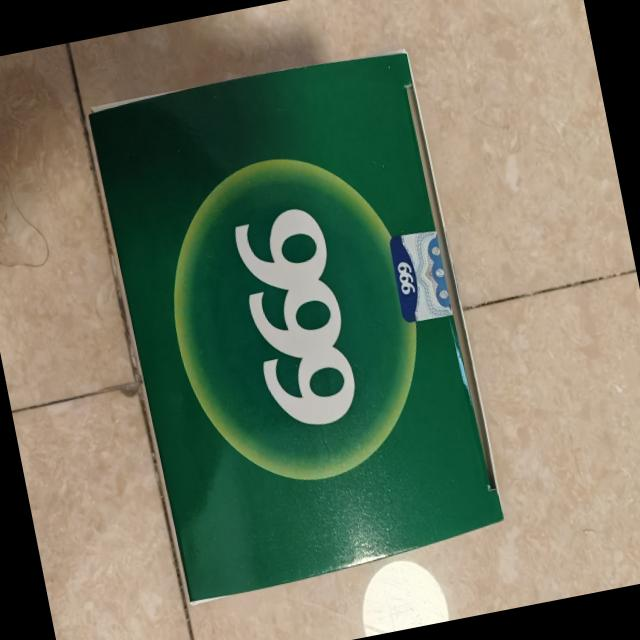box: (74, 31, 518, 614)
